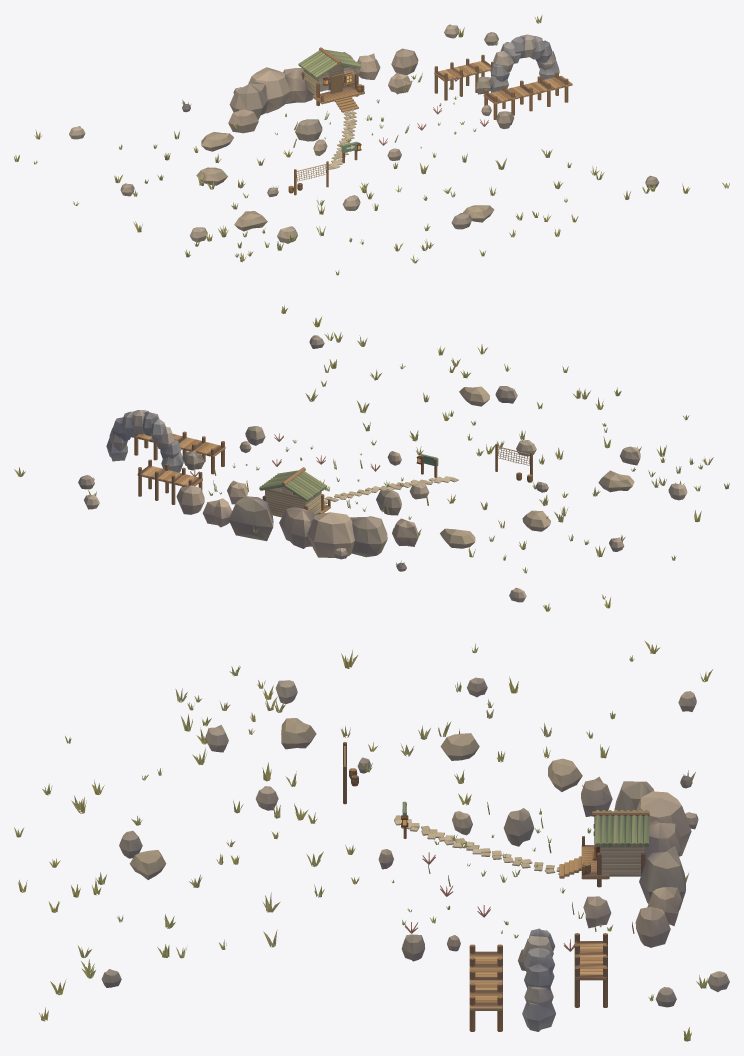
File: district_beach.glb
3 renders of one model, top to bottom at view 1: azimuth 30°, elevation 25°; view 2: azimuth 150°, elevation 25°; view 3: azimuth 270°, elevation 25°, orthographic. The views are drawn at different scales.
Visible parts, largest first — view 1: Muschelbucht · Fischerhütte, Dünen und Felsbogen · -1,0, Muschelbucht · Fischerhütte, Dünen und Felsbogen · 0,0, Muschelbucht · Dünen, Steg und Fischerunterstand · -1,-1, Muschelbucht · Dünen, Steg und Fischerunterstand · 0,-1, Muschelbucht · Fischerhütte, Dünen und Felsbogen · -1,-1, Muschelbucht · Dünen, Steg und Fischerunterstand · -1,0, Muschelbucht · Fischerhütte, Dünen und Felsbogen · 0,-1; view 2: Muschelbucht · Fischerhütte, Dünen und Felsbogen · -1,0, Muschelbucht · Fischerhütte, Dünen und Felsbogen · 0,0, Muschelbucht · Dünen, Steg und Fischerunterstand · -1,-1, Muschelbucht · Dünen, Steg und Fischerunterstand · 0,-1, Muschelbucht · Fischerhütte, Dünen und Felsbogen · -1,-1, Muschelbucht · Dünen, Steg und Fischerunterstand · -1,0, Muschelbucht · Fischerhütte, Dünen und Felsbogen · 0,-1; view 3: Muschelbucht · Fischerhütte, Dünen und Felsbogen · -1,0, Muschelbucht · Dünen, Steg und Fischerunterstand · -1,-1, Muschelbucht · Fischerhütte, Dünen und Felsbogen · 0,0, Muschelbucht · Dünen, Steg und Fischerunterstand · 0,-1, Muschelbucht · Fischerhütte, Dünen und Felsbogen · -1,-1, Muschelbucht · Dünen, Steg und Fischerunterstand · -1,0, Muschelbucht · Fischerhütte, Dünen und Felsbogen · 0,-1, Muschelbucht · Dünen, Steg und Fischerunterstand · 0,0.
Part boxes in pixels (<box>): Muschelbucht · Fischerhütte, Dünen und Felsbogen · -1,0: <box>228,47,379,140</box>; Muschelbucht · Fischerhütte, Dünen und Felsbogen · 0,0: <box>357,34,559,100</box>; Muschelbucht · Dünen, Steg und Fischerunterstand · -1,-1: <box>114,150,560,275</box>; Muschelbucht · Dünen, Steg und Fischerunterstand · 0,-1: <box>483,72,729,222</box>; Muschelbucht · Fischerhütte, Dünen und Felsbogen · -1,-1: <box>293,117,426,169</box>; Muschelbucht · Dünen, Steg und Fischerunterstand · -1,0: <box>34,87,241,160</box>; Muschelbucht · Fischerhütte, Dünen und Felsbogen · 0,-1: <box>433,96,514,134</box>; Muschelbucht · Fischerhütte, Dünen und Felsbogen · -1,0: <box>228,467,418,557</box>; Muschelbucht · Fischerhütte, Dünen und Felsbogen · 0,0: <box>106,410,248,527</box>; Muschelbucht · Dünen, Steg und Fischerunterstand · -1,-1: <box>362,344,729,557</box>; Muschelbucht · Dünen, Steg und Fischerunterstand · 0,-1: <box>131,305,444,474</box>; Muschelbucht · Fischerhütte, Dünen und Felsbogen · -1,-1: <box>316,451,458,505</box>; Muschelbucht · Dünen, Steg und Fischerunterstand · -1,0: <box>253,526,550,611</box>; Muschelbucht · Fischerhütte, Dünen und Felsbogen · 0,-1: <box>232,426,313,470</box>; Muschelbucht · Fischerhütte, Dünen und Felsbogen · -1,0: <box>515,776,691,903</box>; Muschelbucht · Dünen, Steg und Fischerunterstand · -1,-1: <box>14,650,518,897</box>; Muschelbucht · Fischerhütte, Dünen und Felsbogen · 0,0: <box>518,865,685,1031</box>; Muschelbucht · Dünen, Steg und Fischerunterstand · 0,-1: <box>39,892,502,1031</box>; Muschelbucht · Fischerhütte, Dünen und Felsbogen · -1,-1: <box>378,801,521,896</box>; Muschelbucht · Dünen, Steg und Fischerunterstand · -1,0: <box>540,669,712,882</box>; Muschelbucht · Fischerhütte, Dünen und Felsbogen · 0,-1: <box>401,891,518,961</box>; Muschelbucht · Dünen, Steg und Fischerunterstand · 0,0: <box>648,971,729,1041</box>.
Size of the model in its own units: 40.28 by 4.22 by 30.98.
